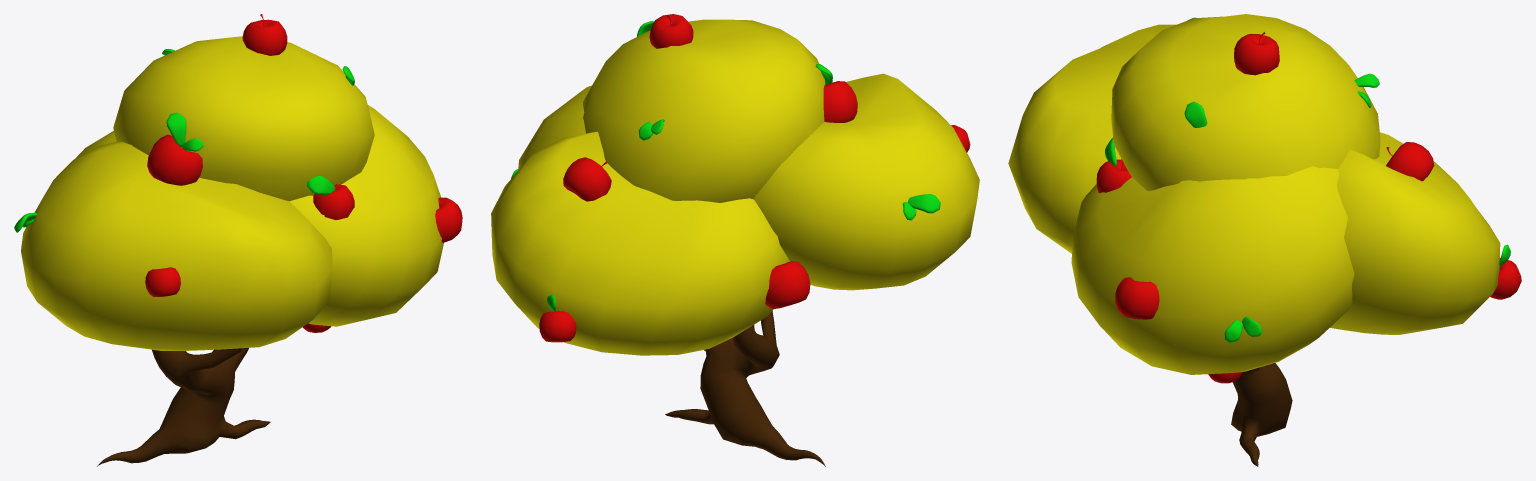
Rendered from autumn tree.fbx.
The picture shows the model from 3 angles, left to right: view 1: azimuth 30°, elevation 25°; view 2: azimuth 150°, elevation 25°; view 3: azimuth 270°, elevation 25°; orthographic projection. The views are drawn at different scales.
Parts seen in each view (by area): view 1: Apple_tree; view 2: Apple_tree; view 3: Apple_tree.
Boxes of the visible parts, <box> form: Apple_tree: <box>14,14,462,466</box>; Apple_tree: <box>491,14,979,466</box>; Apple_tree: <box>1008,14,1521,466</box>.
Size of the model in its own units: 52.14 by 49.16 by 51.51.
